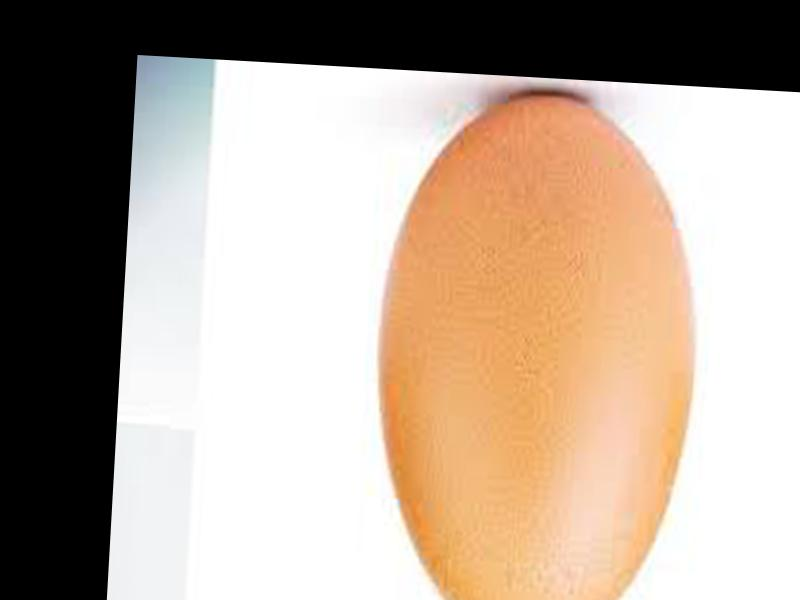Eggs: (363, 86, 708, 600)
